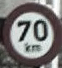Speed limit: (3, 4, 56, 63)
